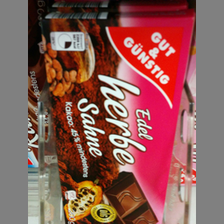chocolate: (40, 12, 195, 224)
